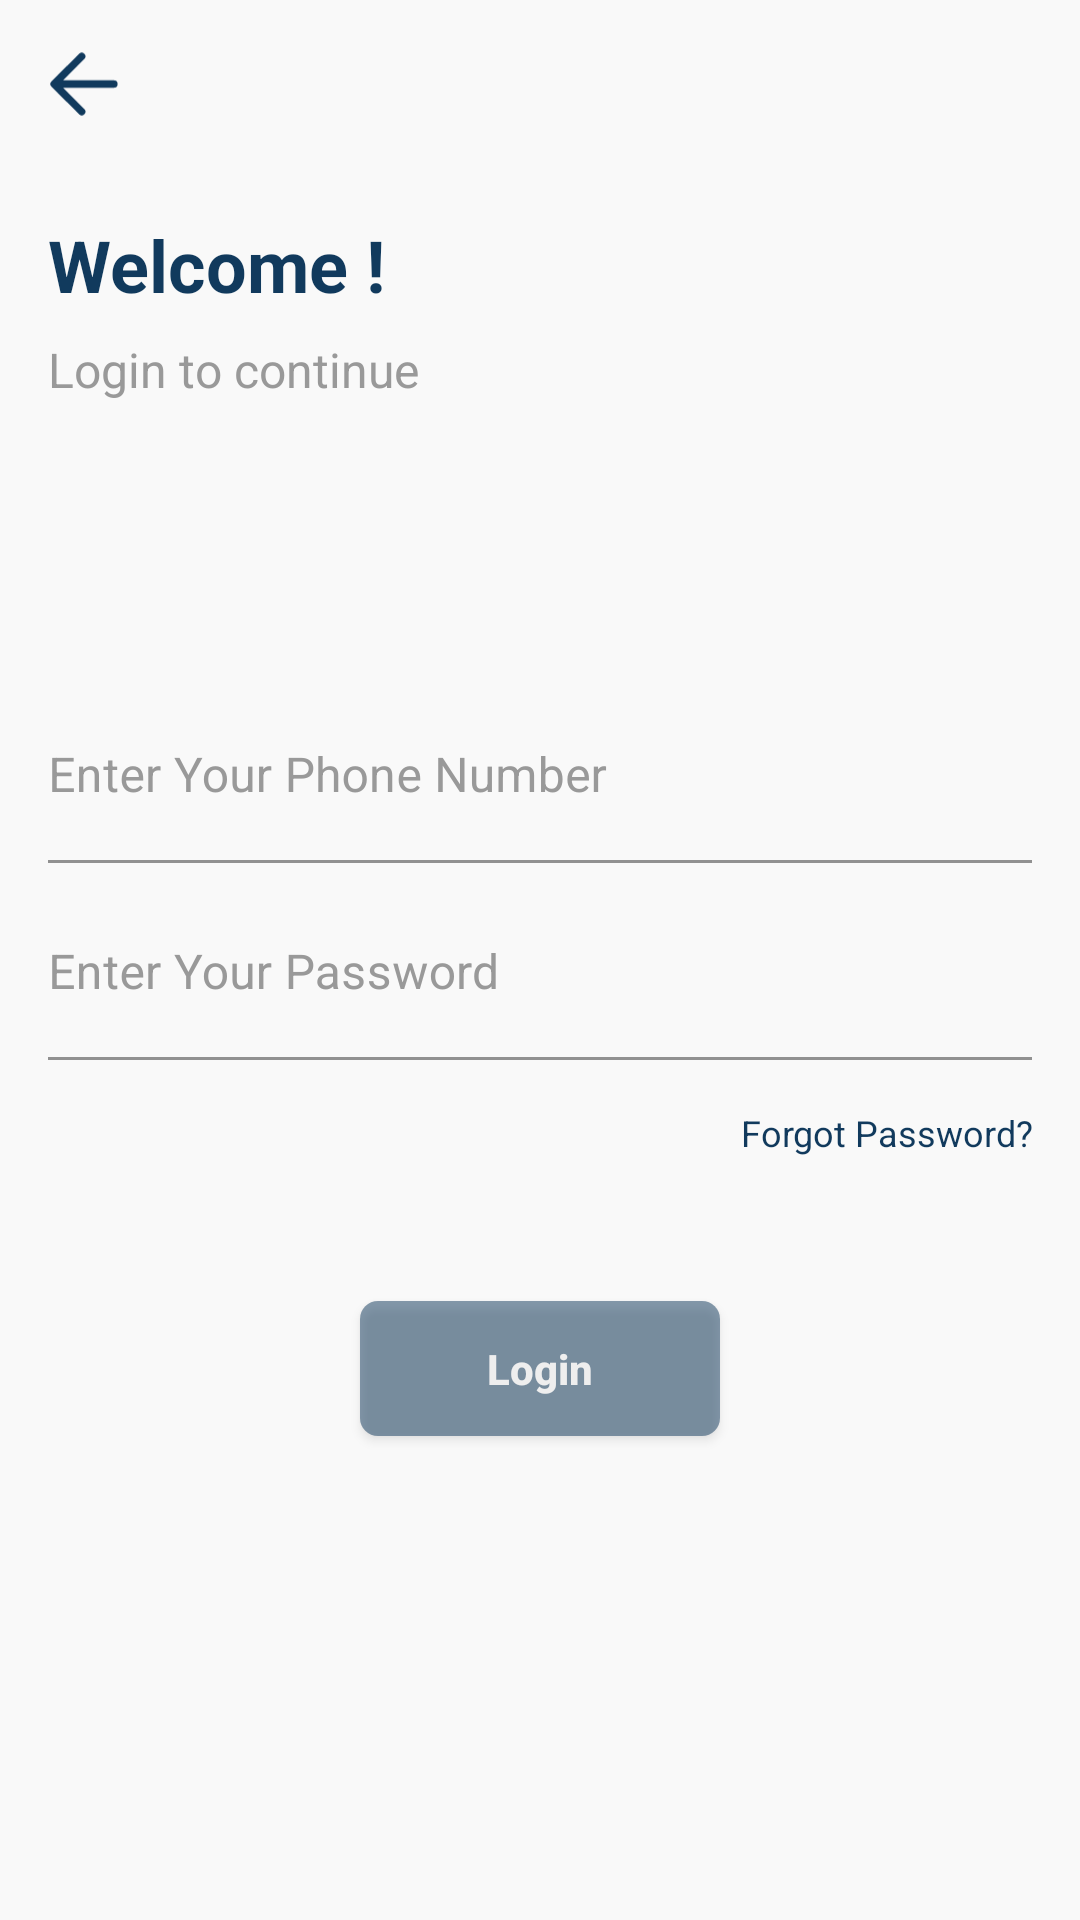

Named icons in this screenshot (1080 × 1920) and their bounding boxes, bbox(x1, y1, x2, y2):
back arrow: bbox(50, 52, 118, 116)
